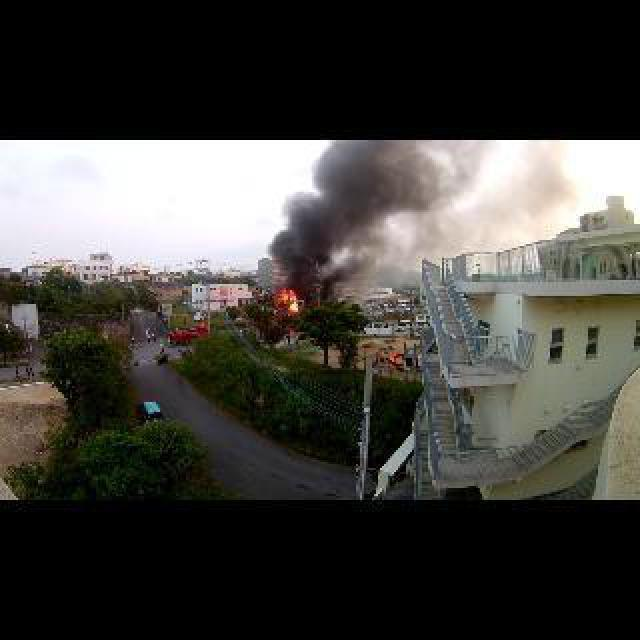fire: (276, 290, 296, 310)
